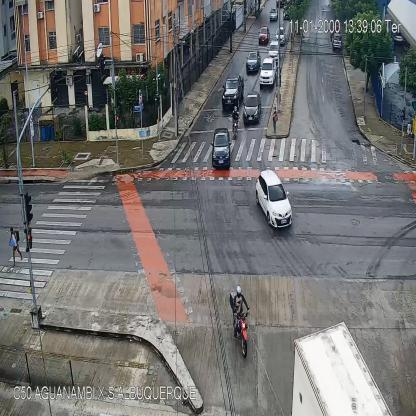car: (256, 168, 292, 229), (210, 128, 232, 167), (221, 74, 245, 106), (244, 93, 262, 123), (260, 58, 276, 87), (246, 51, 259, 74), (267, 41, 279, 62), (259, 26, 269, 48), (274, 28, 285, 46), (332, 34, 342, 50), (269, 7, 277, 23)
motorbike: (234, 286, 250, 358), (232, 105, 239, 139)
person: (9, 227, 23, 265), (273, 106, 278, 132)
truck: (293, 320, 393, 416)
